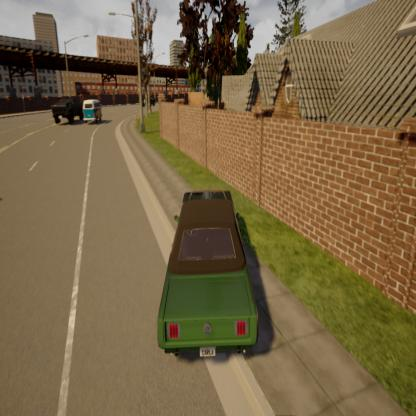Cars: (151, 180, 270, 370), (50, 92, 83, 128), (81, 94, 106, 125), (142, 92, 157, 107)
